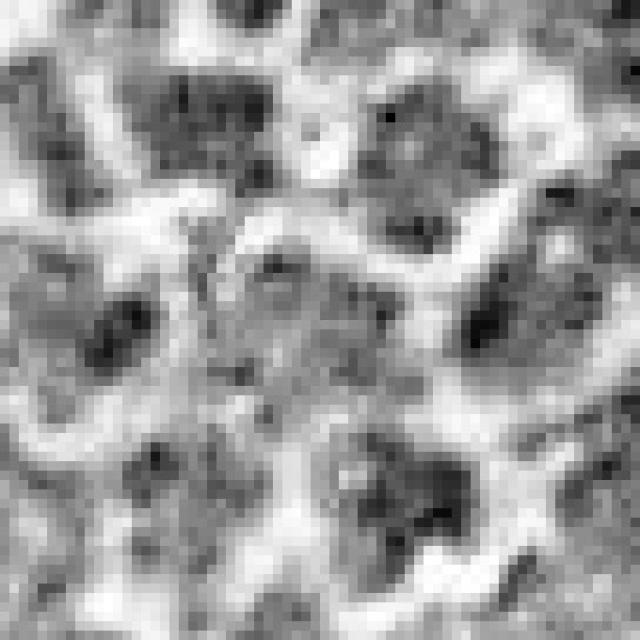inner: (176, 213, 411, 438)
lobe: (339, 77, 510, 256), (310, 423, 479, 602), (7, 260, 166, 429), (446, 249, 605, 398), (118, 60, 281, 200), (119, 418, 264, 572)
outer: (0, 1, 640, 639)
